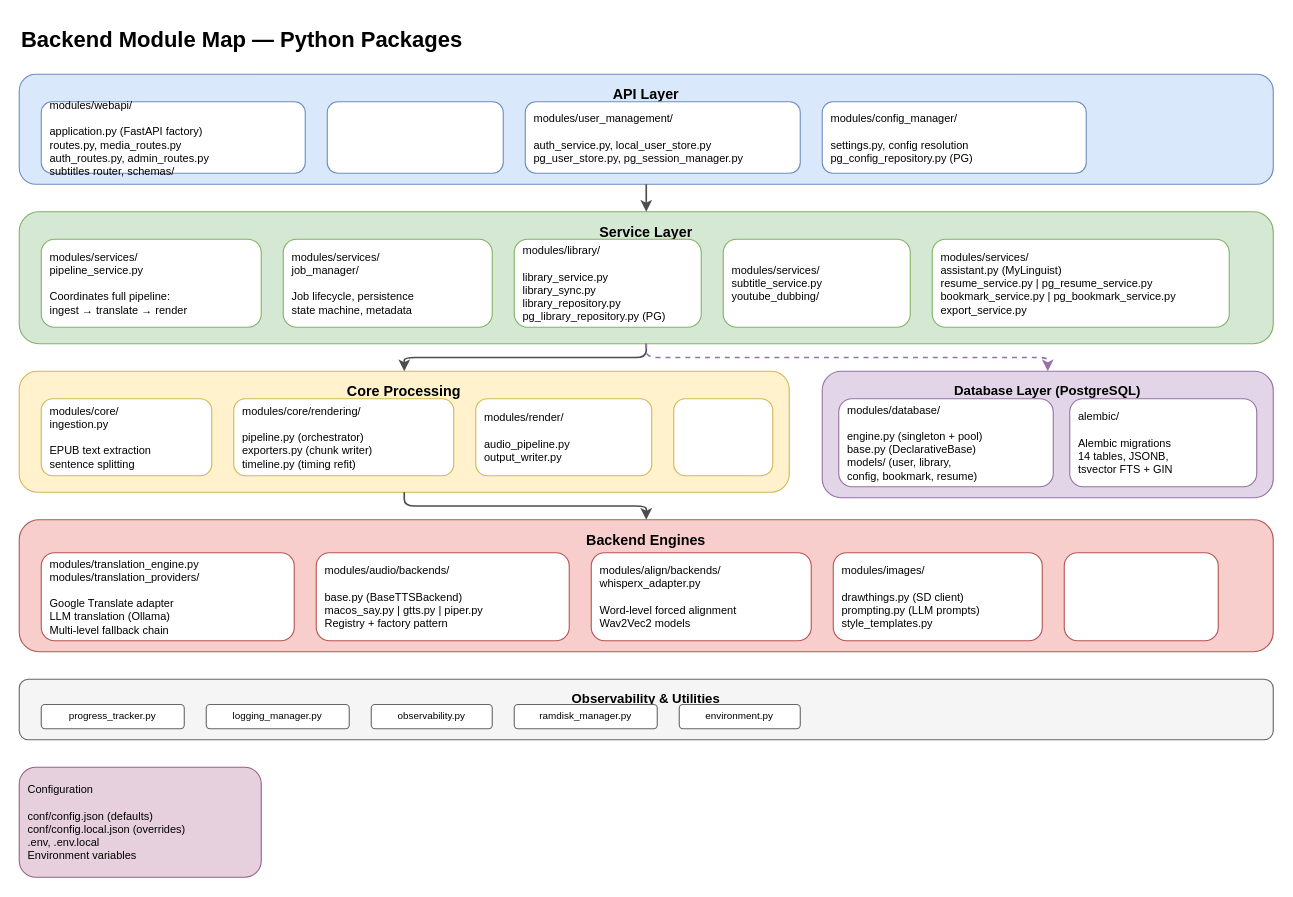
This 1293x897 diagram has some shape labels left out. Each missing label, with the centre of its shape:
"modules/ llm_client.py llm_endpoints.py llm_providers.py" belongs at [1140,596].
"modules/ metadata_manager.py MetadataLoader" belongs at [723,437].
"modules/cli/ orchestrator.py user_commands.py" belongs at [414,137].
